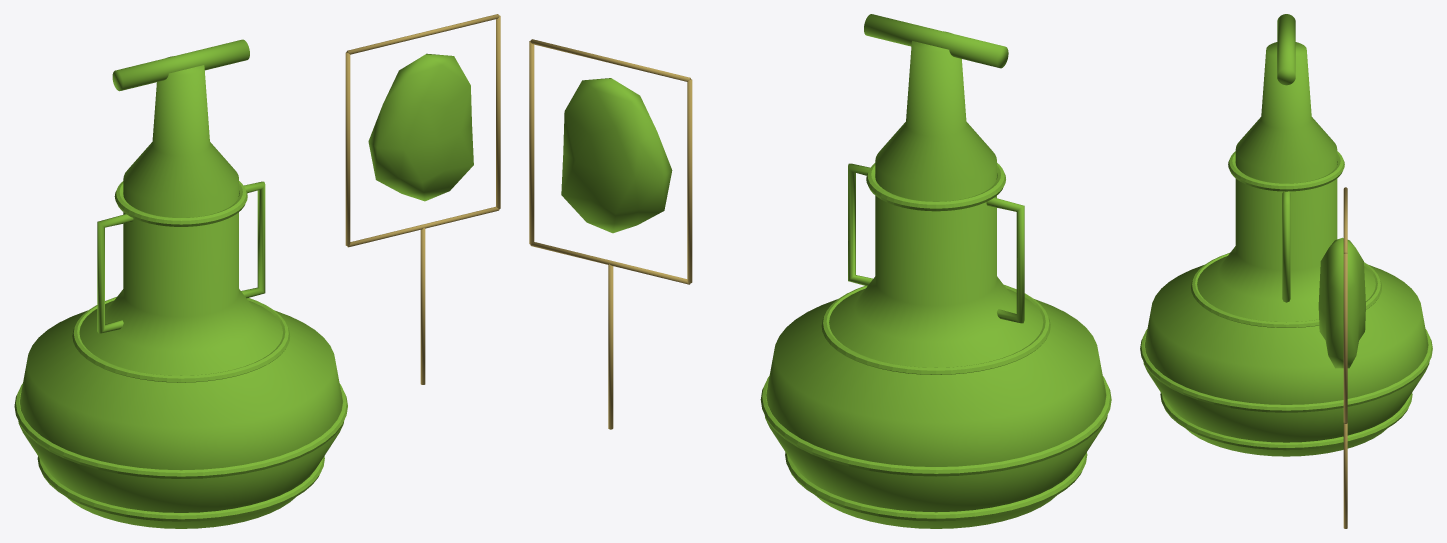
3 renders of one model, left to right at view 1: azimuth 30°, elevation 25°; view 2: azimuth 150°, elevation 25°; view 3: azimuth 270°, elevation 25°, orthographic. The views are drawn at different scales.
Parts seen in each view (by area): view 1: TI086 / spherical lower high-grade flask, TI086 / separate mineral specimen, TI086 / flask assembly seam.001, TI086 / flask assembly seam, TI086 / top hand valve, TI086 / flask assembly seam.002, TI086 / flask assembly seam.003, TI086 / flask protective side handle, TI086 / flask protective side handle.001, TI086 / specimen display frame.003, TI086 / specimen display frame.001, TI086 / specimen support (+2 smaller); view 2: TI086 / spherical lower high-grade flask, TI086 / separate mineral specimen, TI086 / flask assembly seam.001, TI086 / flask assembly seam, TI086 / top hand valve, TI086 / flask assembly seam.002, TI086 / flask assembly seam.003, TI086 / flask protective side handle, TI086 / specimen display frame.003, TI086 / flask protective side handle.001, TI086 / specimen display frame.001, TI086 / specimen support (+2 smaller); view 3: TI086 / spherical lower high-grade flask, TI086 / separate mineral specimen, TI086 / flask assembly seam.001, TI086 / flask assembly seam, TI086 / flask assembly seam.002, TI086 / top hand valve, TI086 / flask assembly seam.003, TI086 / flask protective side handle.001, TI086 / specimen display frame.001, TI086 / specimen support.
Boxes of the visible parts, x1=… form: TI086 / spherical lower high-grade flask: x1=18, y1=56, x2=343, y2=528; TI086 / separate mineral specimen: x1=368, y1=53, x2=473, y2=201; TI086 / flask assembly seam.001: x1=14, y1=383, x2=347, y2=478; TI086 / flask assembly seam: x1=37, y1=456, x2=324, y2=521; TI086 / top hand valve: x1=112, y1=39, x2=249, y2=91; TI086 / flask assembly seam.002: x1=72, y1=297, x2=290, y2=382; TI086 / flask assembly seam.003: x1=114, y1=181, x2=247, y2=226; TI086 / flask protective side handle: x1=97, y1=214, x2=133, y2=333; TI086 / flask protective side handle.001: x1=241, y1=181, x2=265, y2=298; TI086 / specimen display frame.003: x1=345, y1=52, x2=350, y2=245; TI086 / specimen display frame.001: x1=496, y1=15, x2=500, y2=209; TI086 / specimen support: x1=420, y1=228, x2=425, y2=384; TI086 / spherical lower high-grade flask: x1=764, y1=31, x2=1107, y2=528; TI086 / separate mineral specimen: x1=561, y1=78, x2=672, y2=233; TI086 / flask assembly seam.001: x1=760, y1=376, x2=1111, y2=476; TI086 / flask assembly seam: x1=785, y1=452, x2=1087, y2=521; TI086 / top hand valve: x1=864, y1=14, x2=1008, y2=68; TI086 / flask assembly seam.002: x1=821, y1=285, x2=1050, y2=374; TI086 / flask assembly seam.003: x1=866, y1=163, x2=1005, y2=211; TI086 / flask protective side handle: x1=986, y1=197, x2=1024, y2=323; TI086 / specimen display frame.003: x1=687, y1=79, x2=692, y2=283; TI086 / flask protective side handle.001: x1=848, y1=163, x2=872, y2=286; TI086 / specimen display frame.001: x1=529, y1=40, x2=534, y2=244; TI086 / specimen support: x1=608, y1=264, x2=613, y2=429; TI086 / spherical lower high-grade flask: x1=1143, y1=42, x2=1429, y2=456; TI086 / separate mineral specimen: x1=1318, y1=237, x2=1365, y2=368; TI086 / flask assembly seam.001: x1=1140, y1=329, x2=1432, y2=412; TI086 / flask assembly seam: x1=1160, y1=392, x2=1412, y2=450; TI086 / flask assembly seam.002: x1=1191, y1=253, x2=1381, y2=327; TI086 / top hand valve: x1=1277, y1=14, x2=1295, y2=85; TI086 / flask assembly seam.003: x1=1228, y1=151, x2=1344, y2=191; TI086 / flask protective side handle.001: x1=1282, y1=191, x2=1290, y2=302; TI086 / specimen display frame.001: x1=1343, y1=253, x2=1347, y2=422; TI086 / specimen support: x1=1343, y1=423, x2=1347, y2=528.
Bounding box in the file's own units: 2.98 × 2.51 × 1.73.
